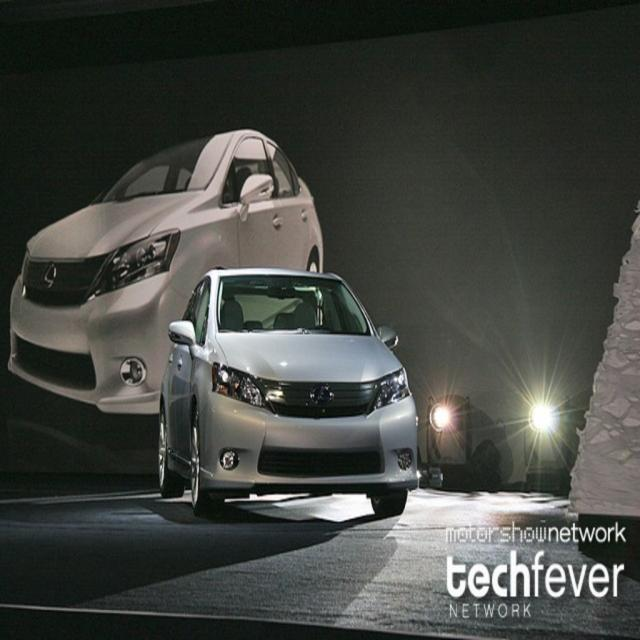car: (157, 268, 422, 512)
